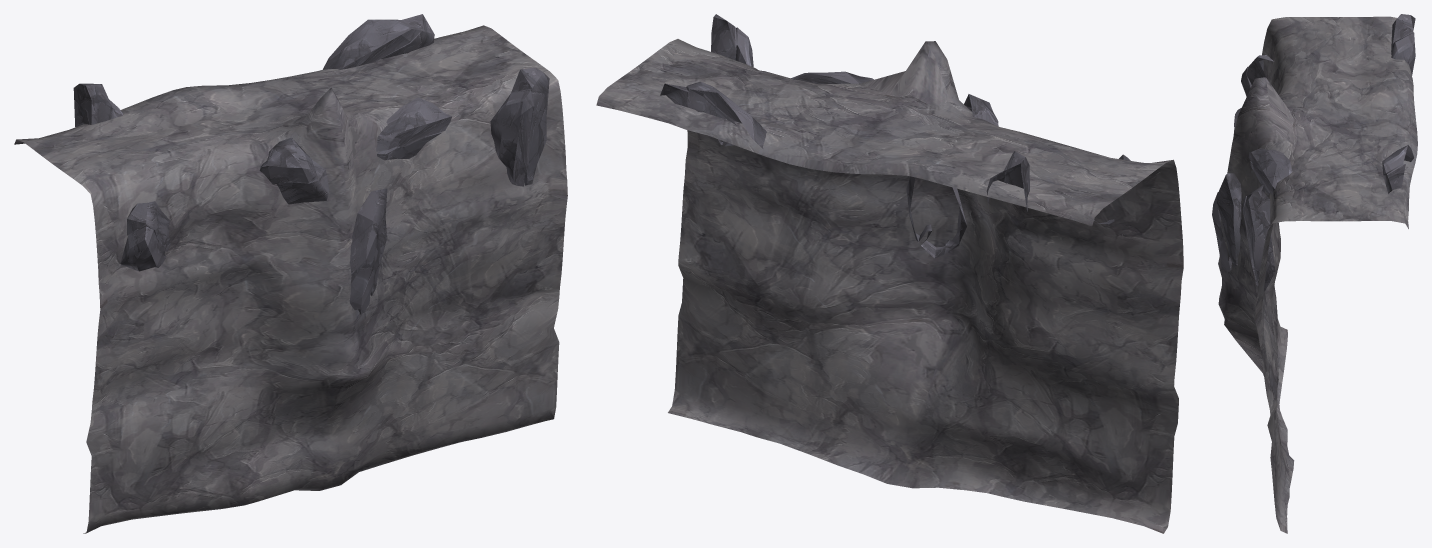
Rendered from GroundNarrow1.fbx.
3 renders of one model, left to right at view 1: azimuth 30°, elevation 25°; view 2: azimuth 150°, elevation 25°; view 3: azimuth 270°, elevation 25°, orthographic. The views are drawn at different scales.
Parts seen in each view (by area): view 1: GroundNarrow1; view 2: GroundNarrow1; view 3: GroundNarrow1.
Part boxes in pixels (x1=…): GroundNarrow1: x1=14, y1=14, x2=567, y2=533; GroundNarrow1: x1=596, y1=14, x2=1183, y2=533; GroundNarrow1: x1=1212, y1=14, x2=1417, y2=533.
Size of the model in its own units: 10.1 by 8.44 by 4.26.
3 materials, 3 textured.
